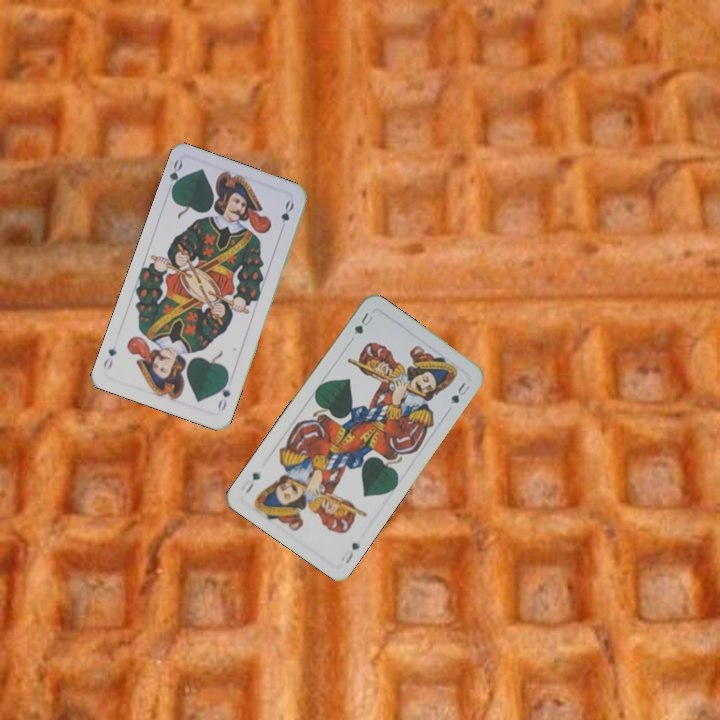GO: (165, 156, 186, 197), (213, 374, 233, 414)
GU: (347, 308, 376, 343), (337, 538, 363, 566)
